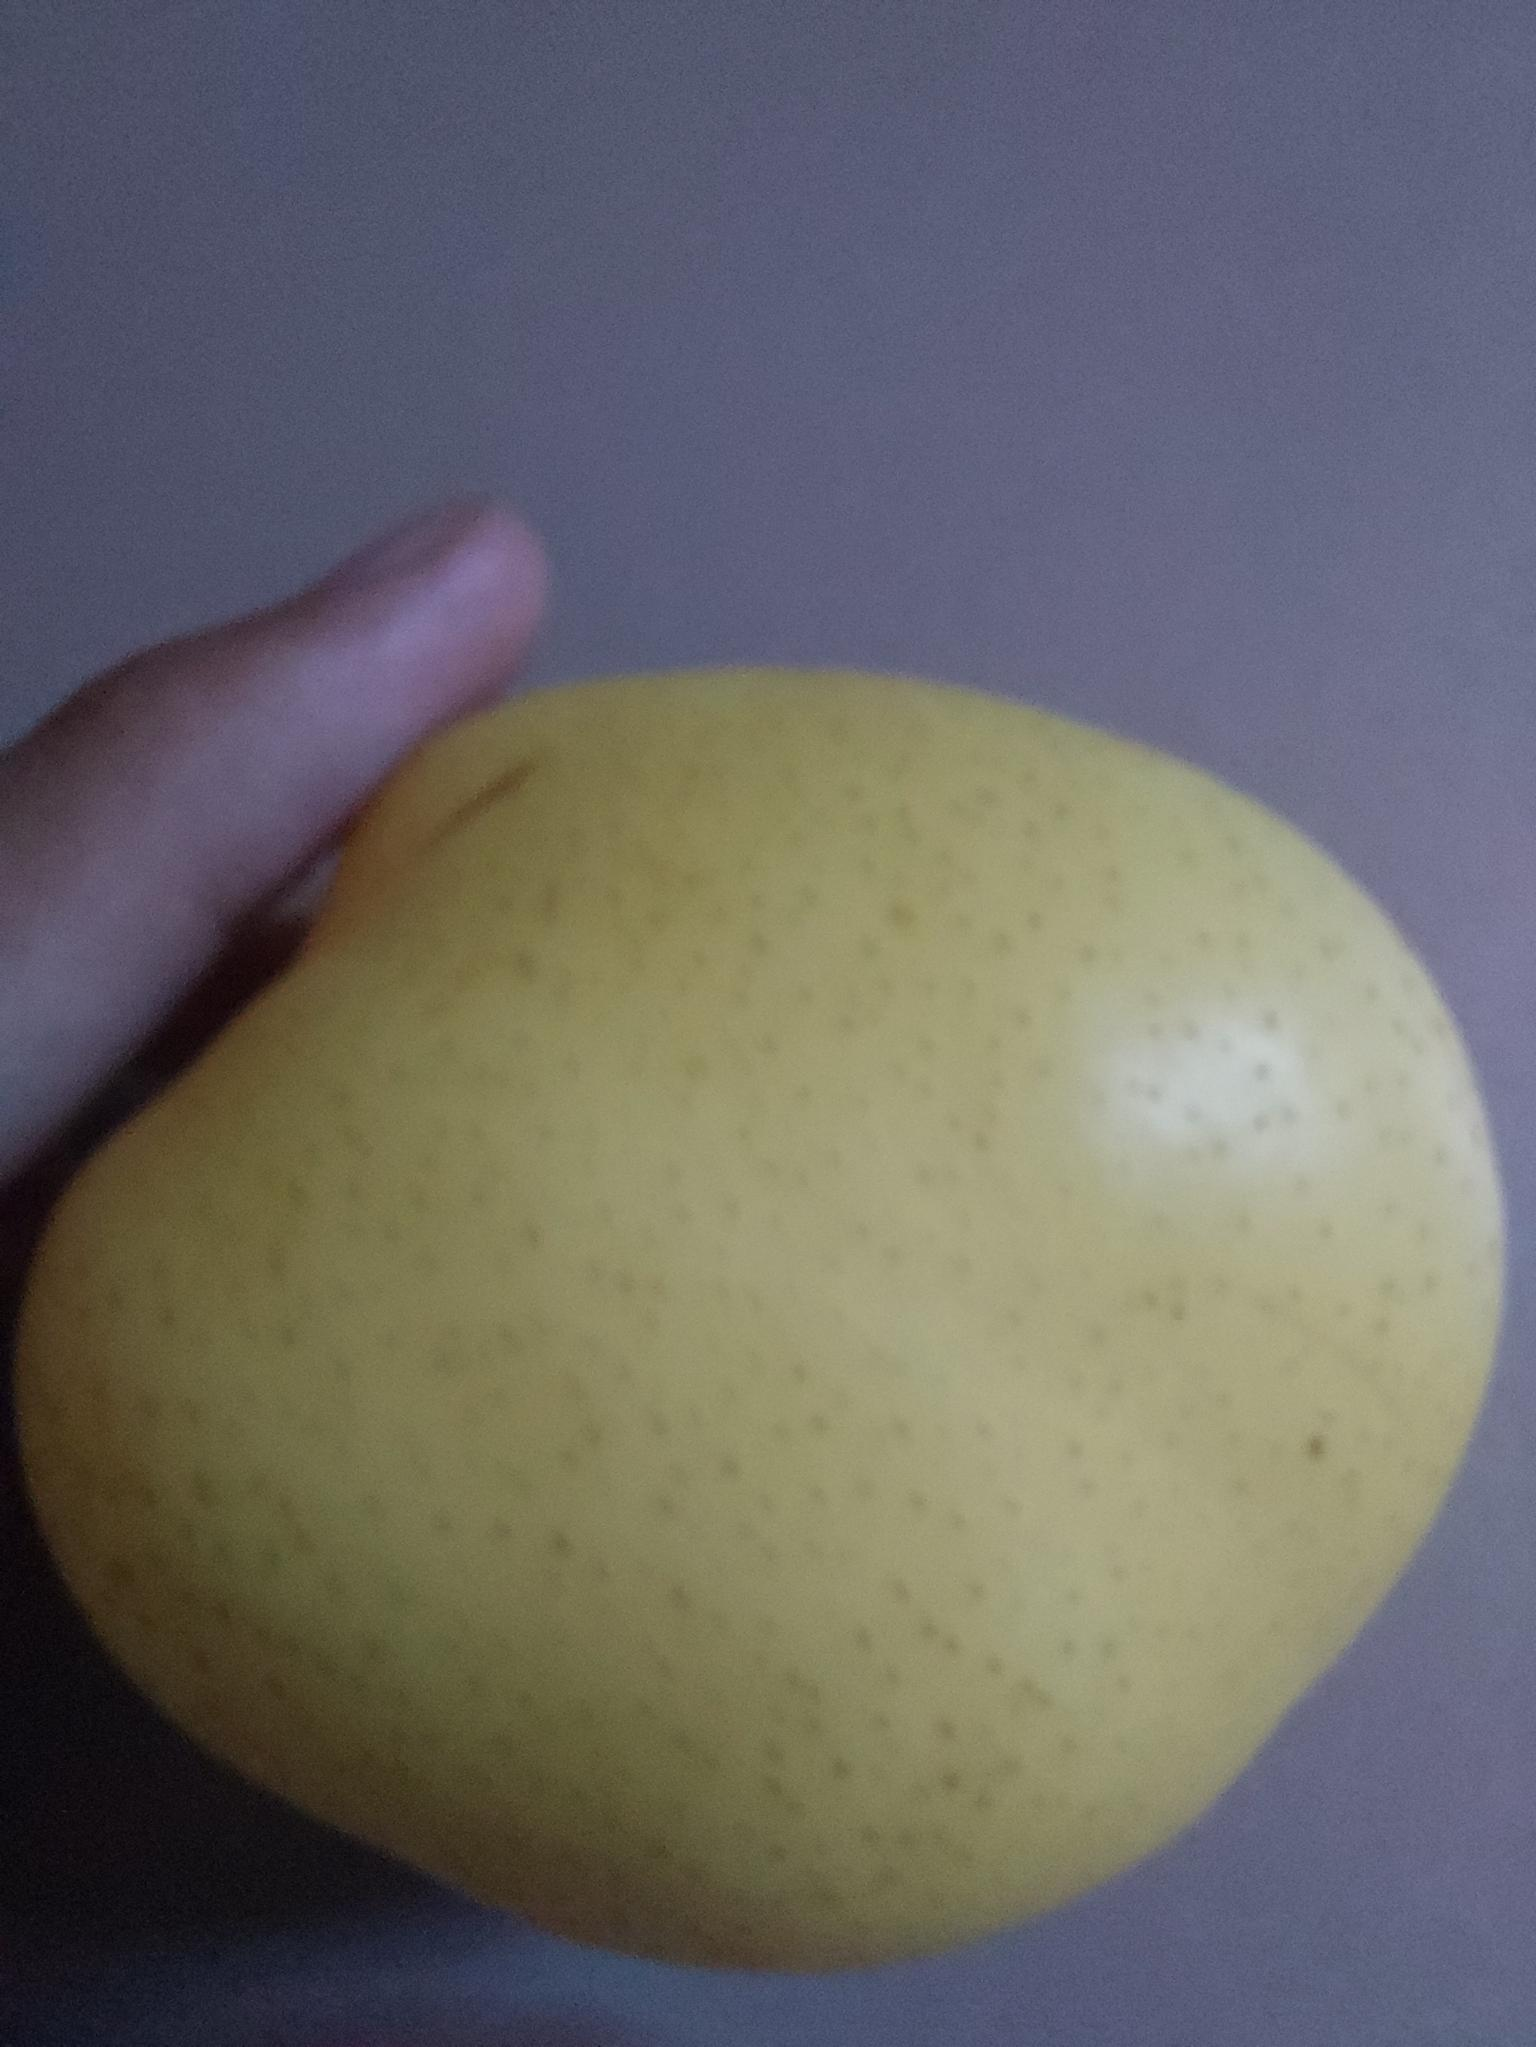Good Pear: (16, 668, 1536, 1973)
